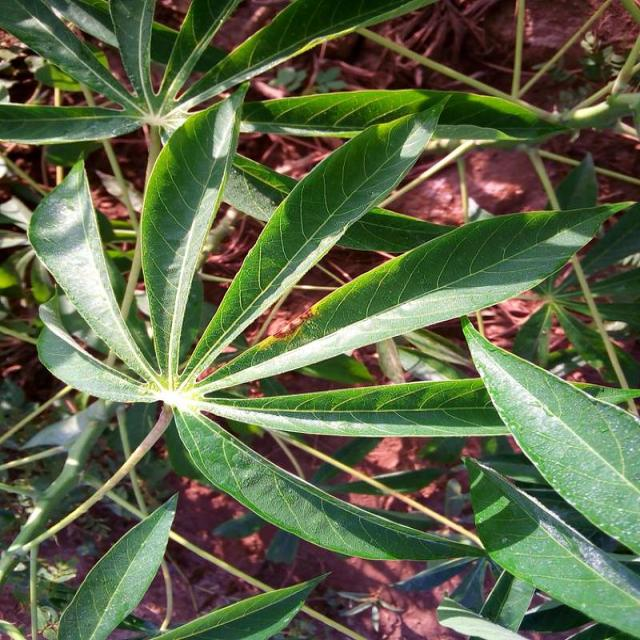cassava leaf: (2, 1, 640, 637), (188, 196, 638, 393), (181, 98, 450, 385), (461, 312, 640, 557), (140, 78, 251, 382), (463, 452, 640, 637), (28, 153, 158, 385), (58, 490, 180, 639)
